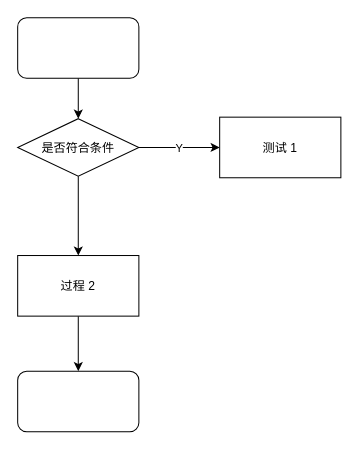
Image size: 359x449. Some labels were removed from this diagram. The shapes that lost their labels are listed below. From the top down, each one's box as (x1, y1, x2, y2) in pixels, then its label:
(17, 17, 139, 78): 测试
(17, 370, 139, 432): 结束
